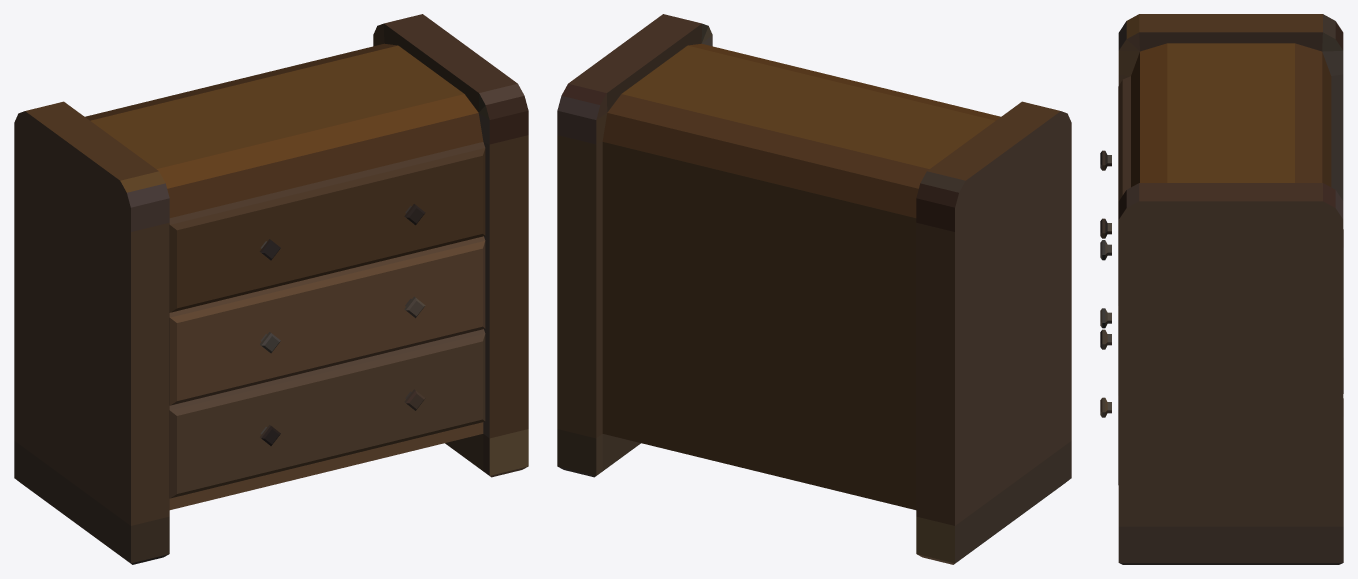
File: Furniture_EndTableB.fbx
3 views of the same model, side by side, from view 1: azimuth 30°, elevation 25°; view 2: azimuth 150°, elevation 25°; view 3: azimuth 270°, elevation 25° (orthographic). The views are drawn at different scales.
Parts seen in each view (by area): view 1: Furniture_EndTableB; view 2: Furniture_EndTableB; view 3: Furniture_EndTableB.
Part boxes in pixels (x1,y1,x2,y2): Furniture_EndTableB: (14,14,528,564); Furniture_EndTableB: (557,14,1071,564); Furniture_EndTableB: (1100,14,1343,564).
Size of the model in its own units: 100 by 91.07 by 54.88.
